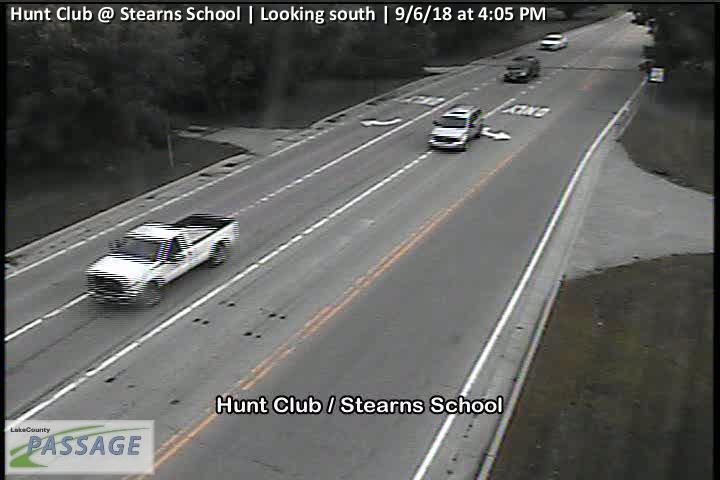SUV: (430, 106, 483, 150)
Sedan: (503, 55, 541, 84), (537, 33, 568, 50)
Truck: (85, 212, 240, 306)
